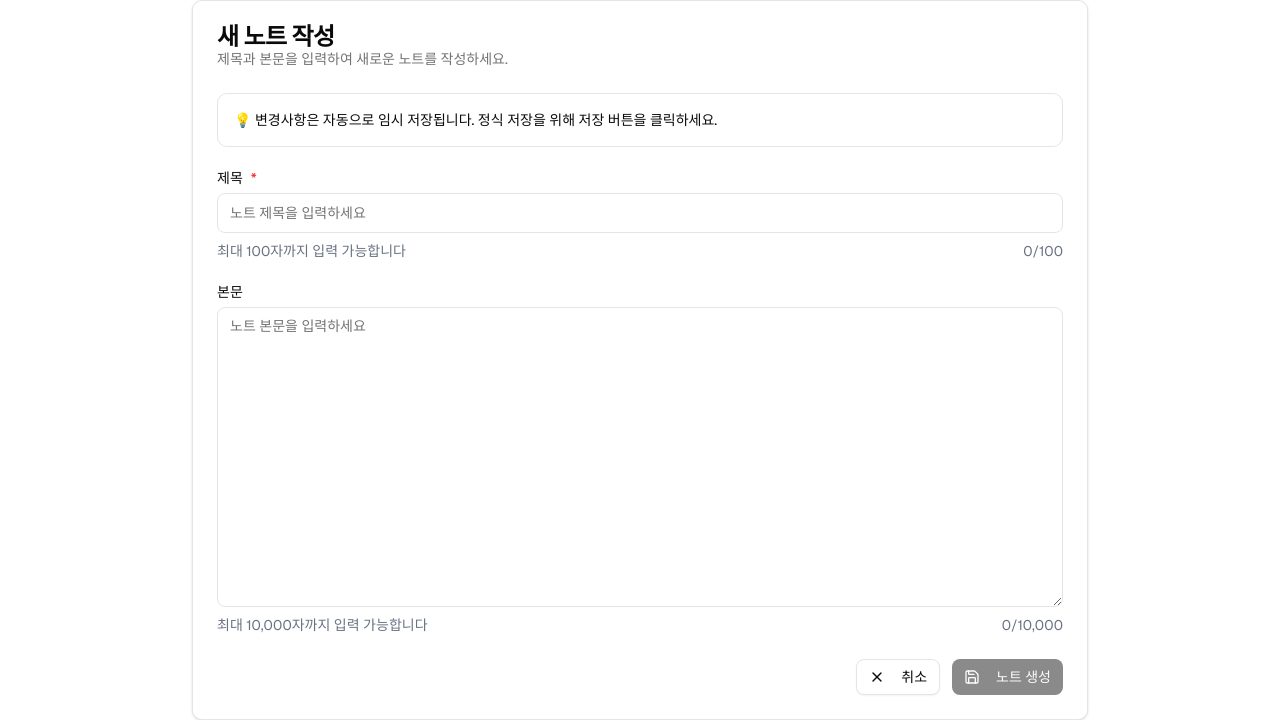
Test: NoteForm › should show character count
// fireEvent를 사용하여 직접 값 설정
Type "Test" into the field labelled "제목 *".
click(640, 213); type("Test")  # box [217,193,1063,233]
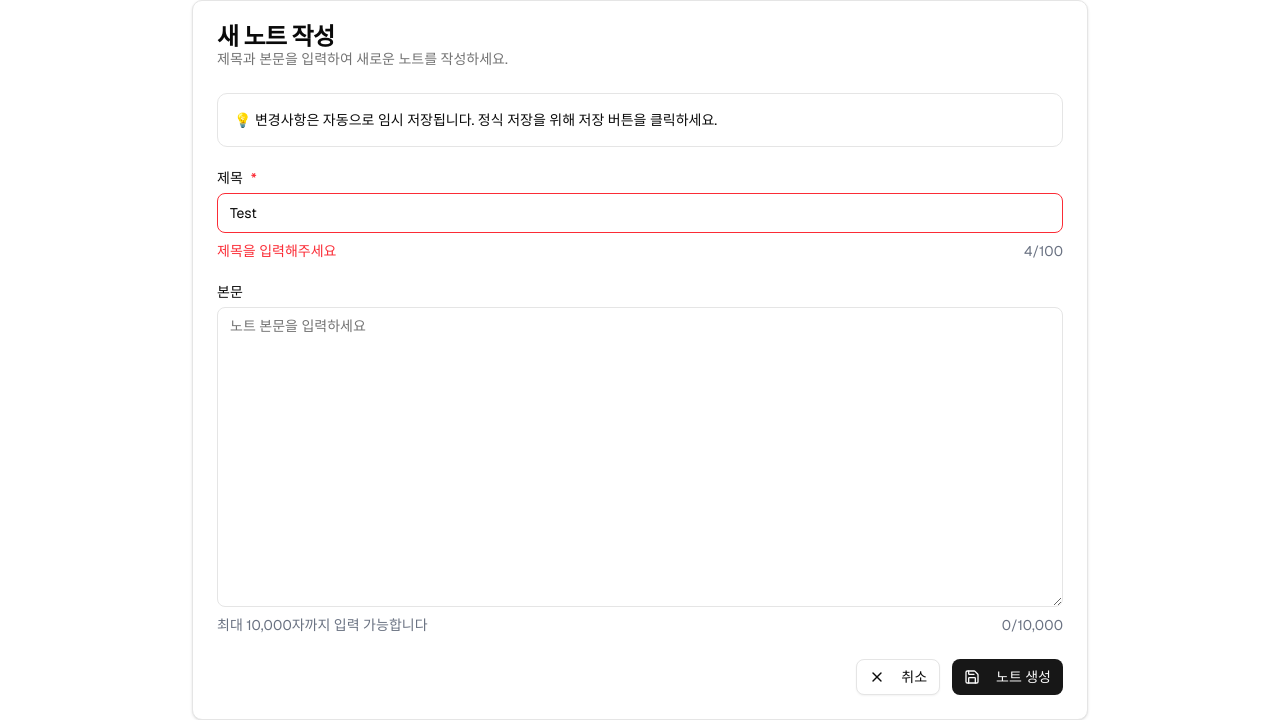
Type "Content" into the text box labelled "본문".
click(640, 457); type("Content")  # box [217,307,1063,607]
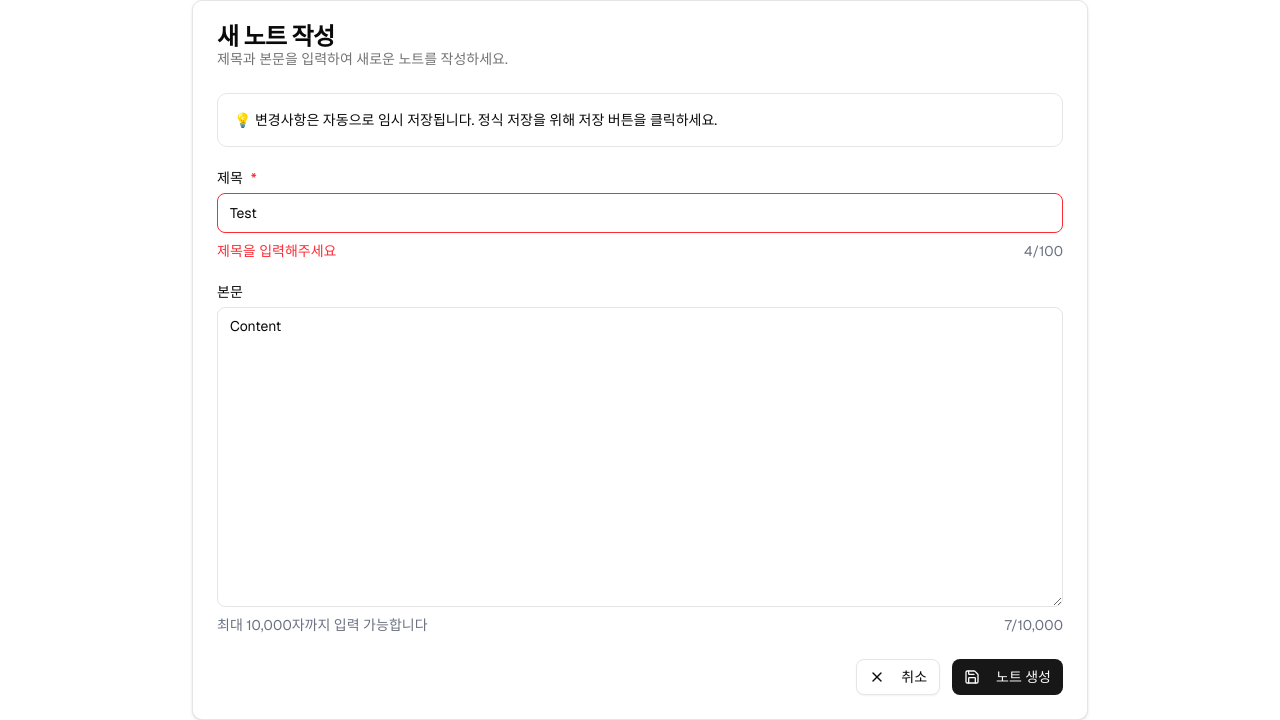
Expected: the text "4/100" is shown, [1024,241,1063,261]
Expected: the text "7/10,000" is shown, [1005,615,1063,635]
